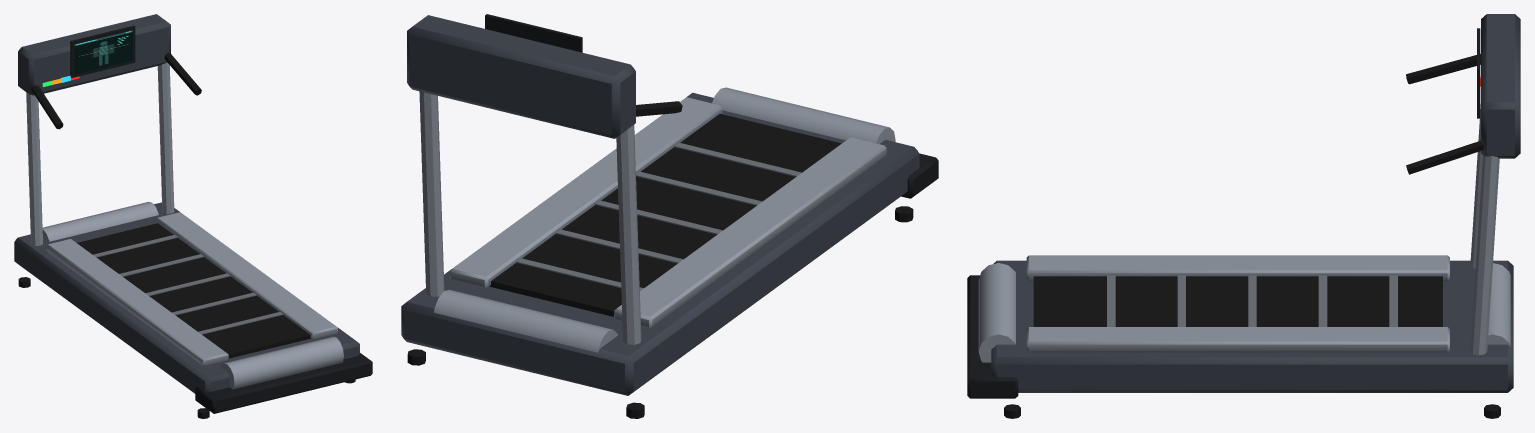
Rendered from gym_treadmill.glb.
The picture shows the model from 3 angles, left to right: view 1: azimuth 30°, elevation 25°; view 2: azimuth 150°, elevation 25°; view 3: azimuth 270°, elevation 25°; orthographic projection. The views are drawn at different scales.
Parts seen in each view (by area): view 1: gym_treadmill; view 2: gym_treadmill; view 3: gym_treadmill.
Part boxes in pixels (x1=…): gym_treadmill: x1=14, y1=14, x2=372, y2=418; gym_treadmill: x1=401, y1=14, x2=938, y2=418; gym_treadmill: x1=967, y1=14, x2=1520, y2=418.
Bounding box in the file's own units: 0.88 × 1.25 × 1.96.
Materials: 10 (1 with a texture image).
